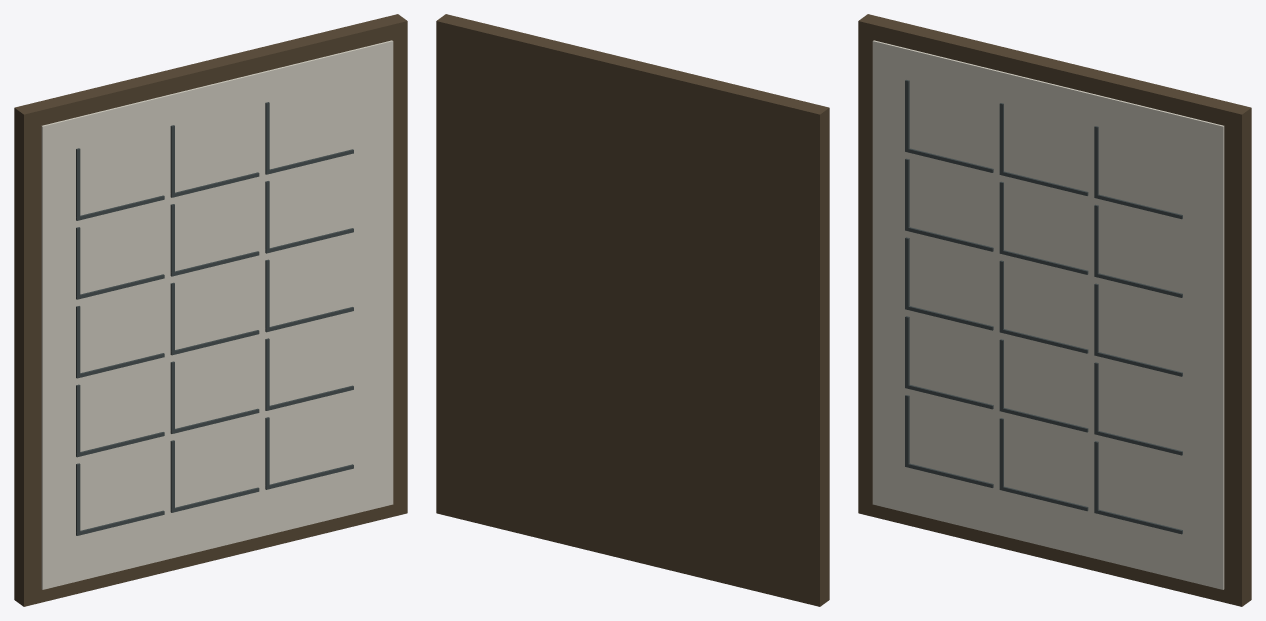
File: blender_site_map_1.glb
3 renders of one model, left to right at view 1: azimuth 30°, elevation 25°; view 2: azimuth 150°, elevation 25°; view 3: azimuth 330°, elevation 25°, orthographic.
Parts seen in each view (by area): view 1: blender_site_map_1; view 2: blender_site_map_1; view 3: blender_site_map_1.
Boxes of the visible parts, x1,y1,x2,y2 form: blender_site_map_1: (14,14,407,606); blender_site_map_1: (436,14,829,606); blender_site_map_1: (858,14,1251,606).
Size of the model in its own units: 0.208 by 0.255 by 0.012.
1 material, 1 textured.
